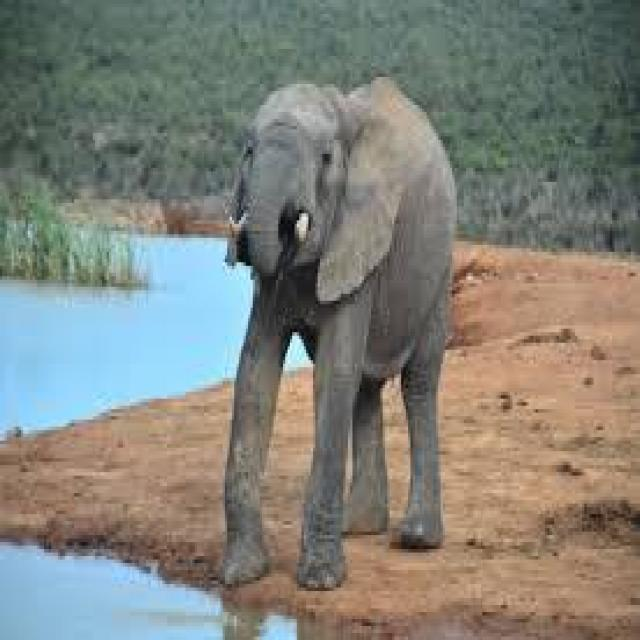Elephant: (204, 74, 452, 580)
